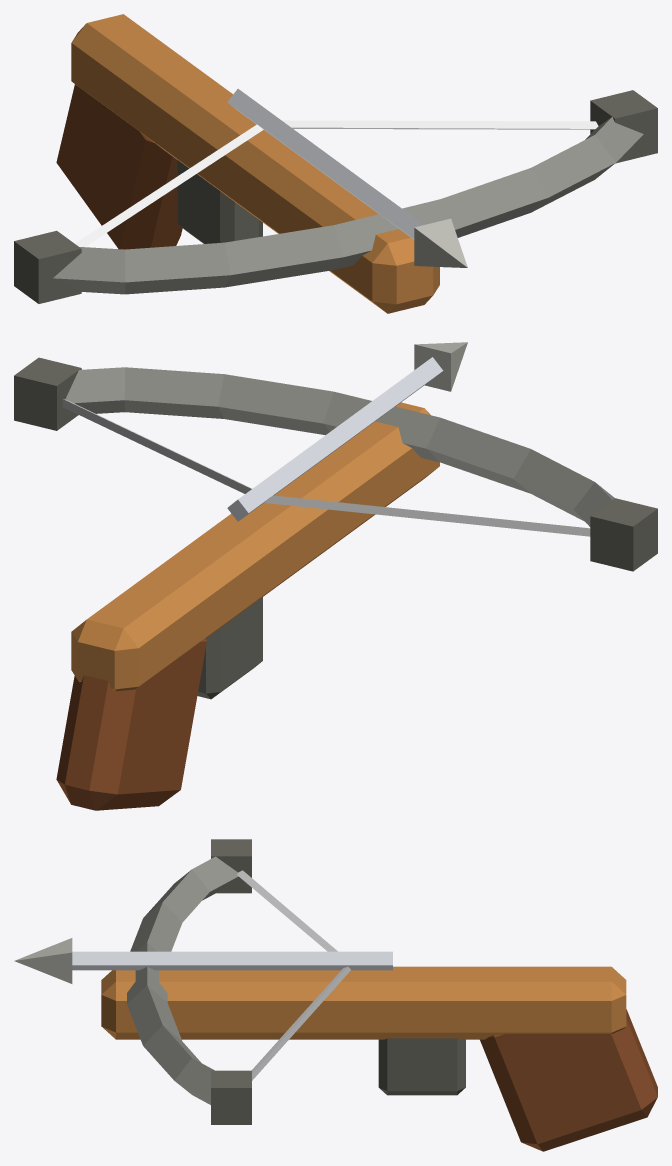
File: StoneCrossbow.fbx
3 renders of one model, top to bottom at view 1: azimuth 30°, elevation 25°; view 2: azimuth 150°, elevation 25°; view 3: azimuth 270°, elevation 25°, orthographic. The views are drawn at different scales.
Parts seen in each view (by area): view 1: StoneCrossbow; view 2: StoneCrossbow; view 3: StoneCrossbow.
Boxes of the visible parts, x1=… form: StoneCrossbow: x1=14, y1=14, x2=657, y2=313; StoneCrossbow: x1=14, y1=342, x2=657, y2=810; StoneCrossbow: x1=14, y1=839, x2=657, y2=1151.
Bounding box in the file's own units: 2.02 × 0.7634 × 2.21.
1 material, 1 textured.
